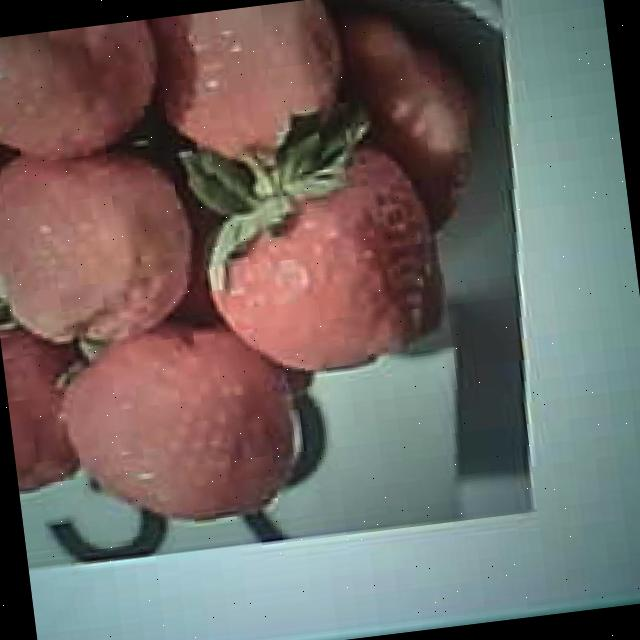strawberry: (198, 143, 452, 383), (54, 318, 304, 536)
